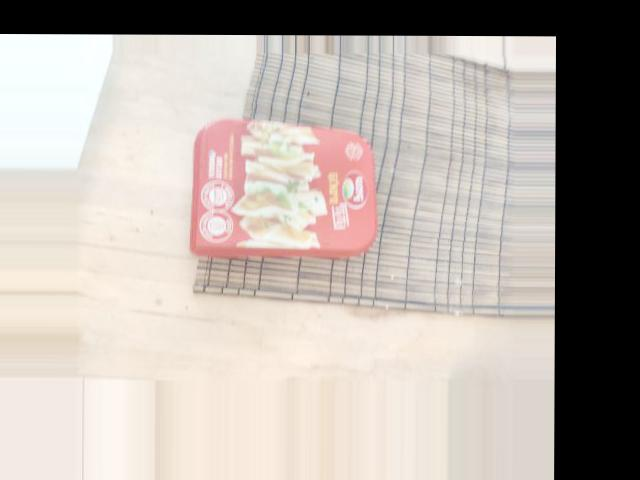cheese: (319, 57, 444, 250)
